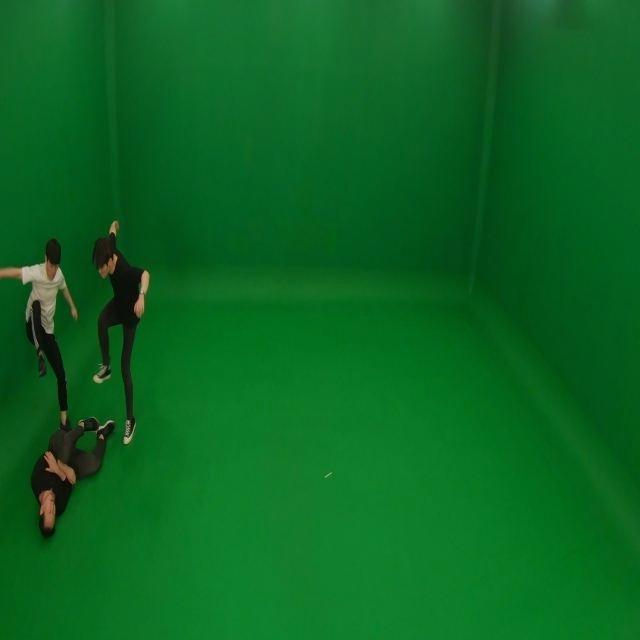fight: (0, 216, 150, 534)
